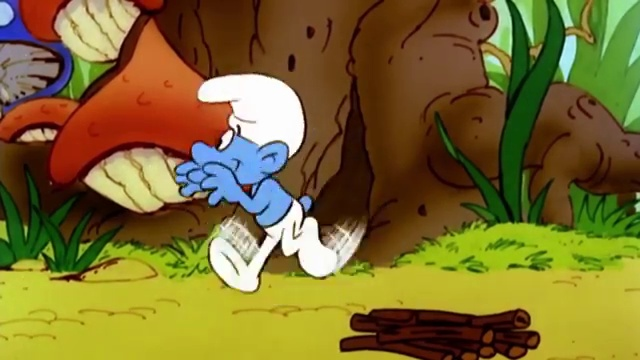smurf: (170, 72, 345, 294)
